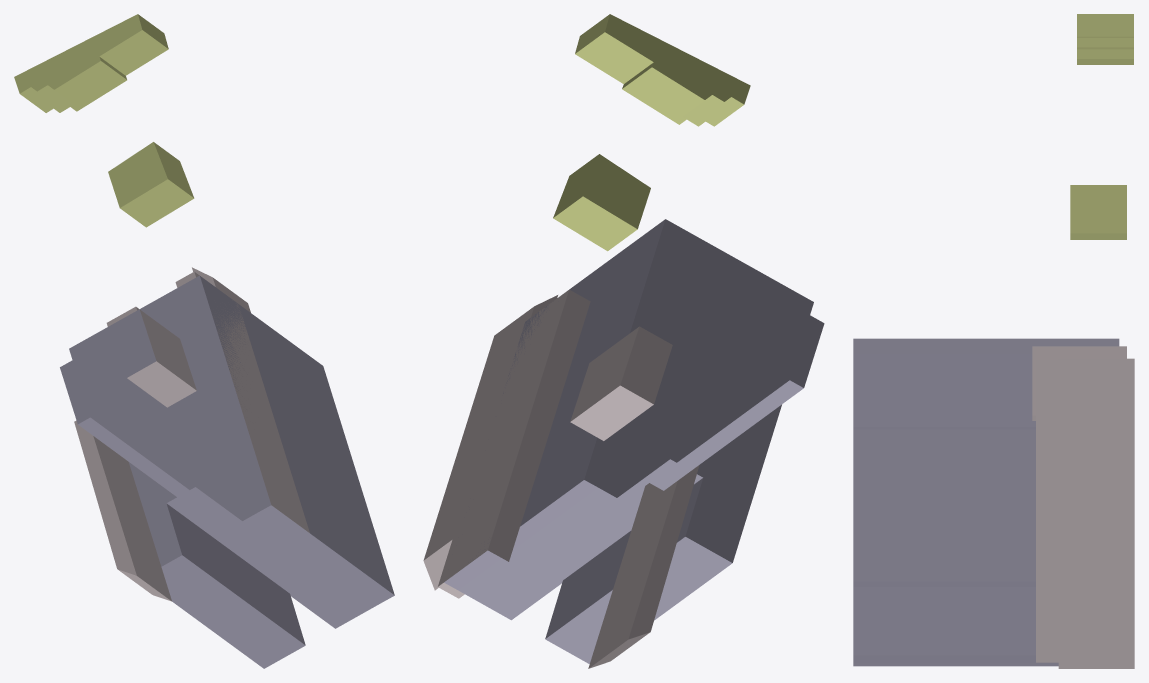
3 renders of one model, left to right at view 1: azimuth 30°, elevation 25°; view 2: azimuth 150°, elevation 25°; view 3: azimuth 270°, elevation 25°, orthographic. The views are drawn at different scales.
Parts seen in each view (by area): view 1: 0_1_3_2_1_1_2_1; view 2: 0_1_3_2_1_1_2_1; view 3: 0_1_3_2_1_1_2_1.
Boxes of the visible parts, left/top/right/bottom form: 0_1_3_2_1_1_2_1: left=14, top=14, right=394, bottom=668; 0_1_3_2_1_1_2_1: left=423, top=14, right=824, bottom=668; 0_1_3_2_1_1_2_1: left=853, top=14, right=1134, bottom=668.
Bounding box in the file's own units: 51.29 × 105 × 44.42.
